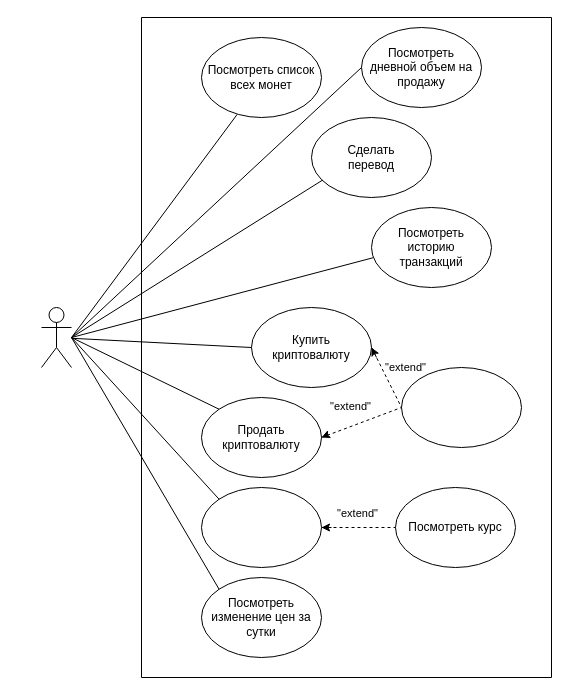
Image size: 570x696. Some labels were removed from this diagram. Each missing label, with the centre of its shape:
Конвертировать криптовалюту: point (261, 527)
Пользователь: point (56, 337)
Посмотреть цену: point (461, 407)
